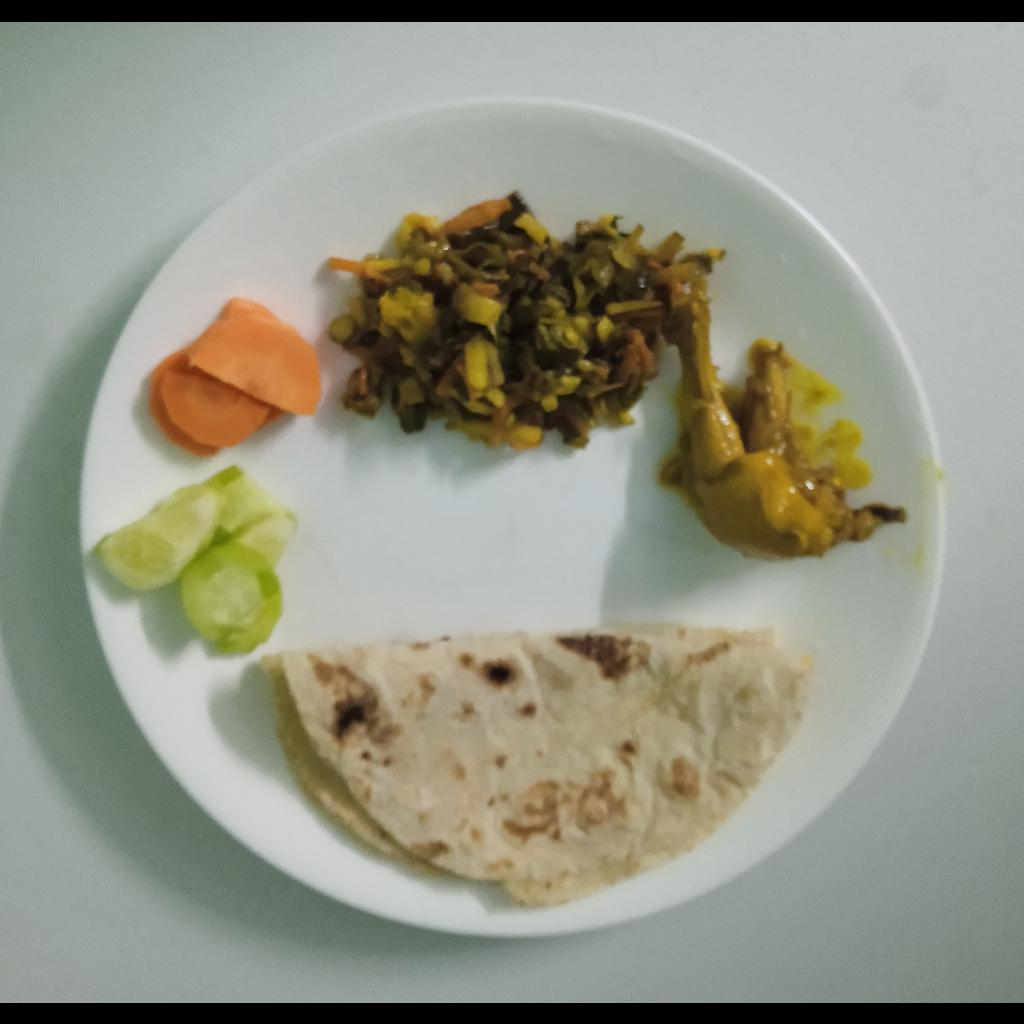carrot: (155, 301, 324, 445)
chicken: (672, 306, 905, 551)
cucumber: (99, 468, 291, 657)
ruti: (269, 621, 812, 898)
shak: (327, 195, 708, 450)
